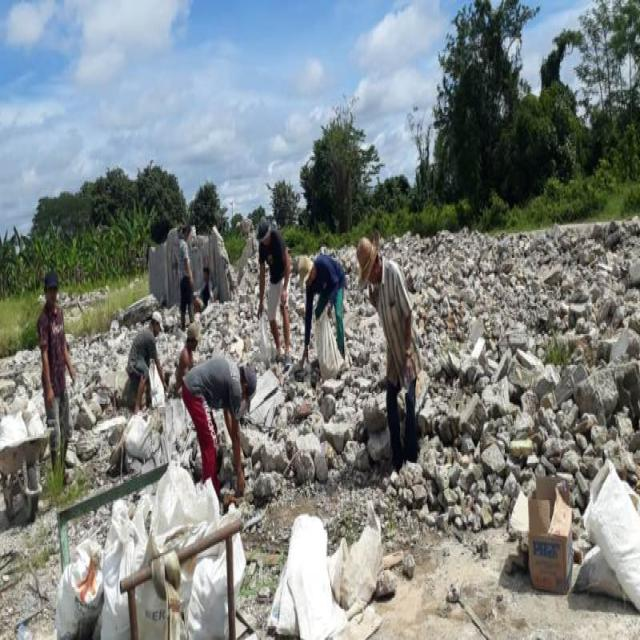Pecahan Agregat: (235, 390, 365, 500), (465, 241, 578, 347), (434, 420, 497, 504), (582, 354, 632, 437), (469, 341, 520, 410), (590, 236, 629, 297)
